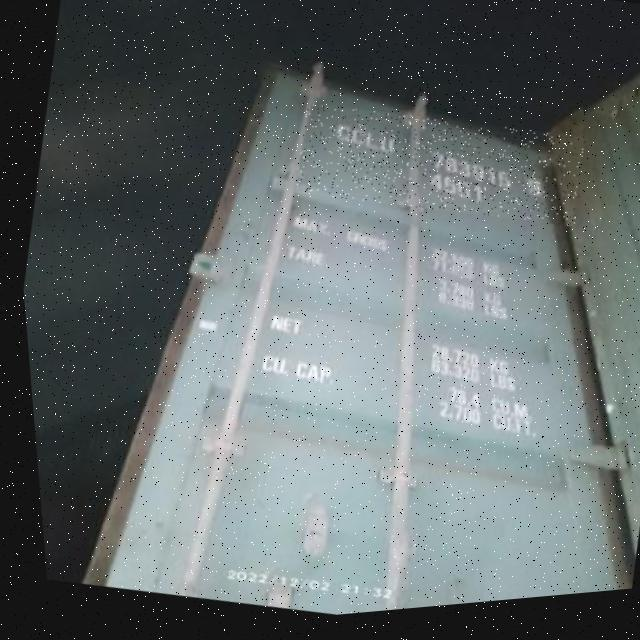container_number_h: (286, 89, 589, 256)
